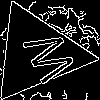W: (12, 28, 79, 90)
